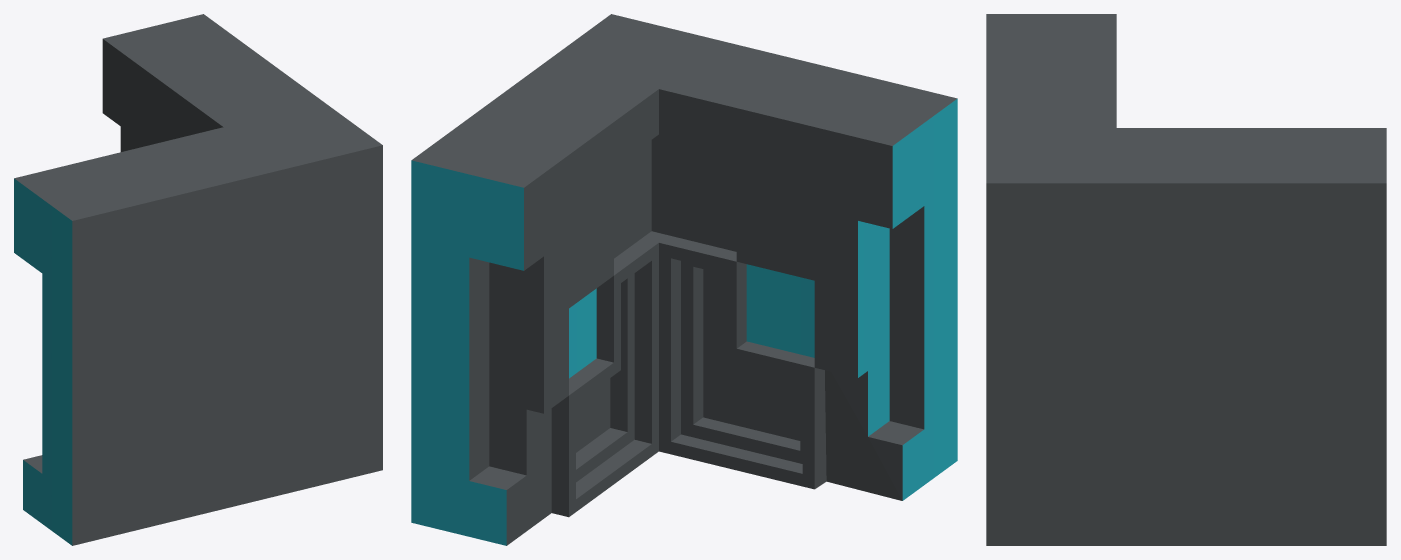
Rendered from EspacioContenidoEsquinaCierreInteriorAltoNI.gltf.
3 views of the same model, side by side, from view 1: azimuth 30°, elevation 25°; view 2: azimuth 150°, elevation 25°; view 3: azimuth 270°, elevation 25° (orthographic). The views are drawn at different scales.
Visible parts, largest first — view 1: Cubo.5; view 2: Cubo.5; view 3: Cubo.5.
Part boxes in pixels (x1=…): Cubo.5: x1=14, y1=14, x2=382, y2=545; Cubo.5: x1=411, y1=14, x2=957, y2=545; Cubo.5: x1=986, y1=14, x2=1386, y2=545.
Size of the model in its own units: 2 by 2 by 2.
Materials: 1 (1 with a texture image).
